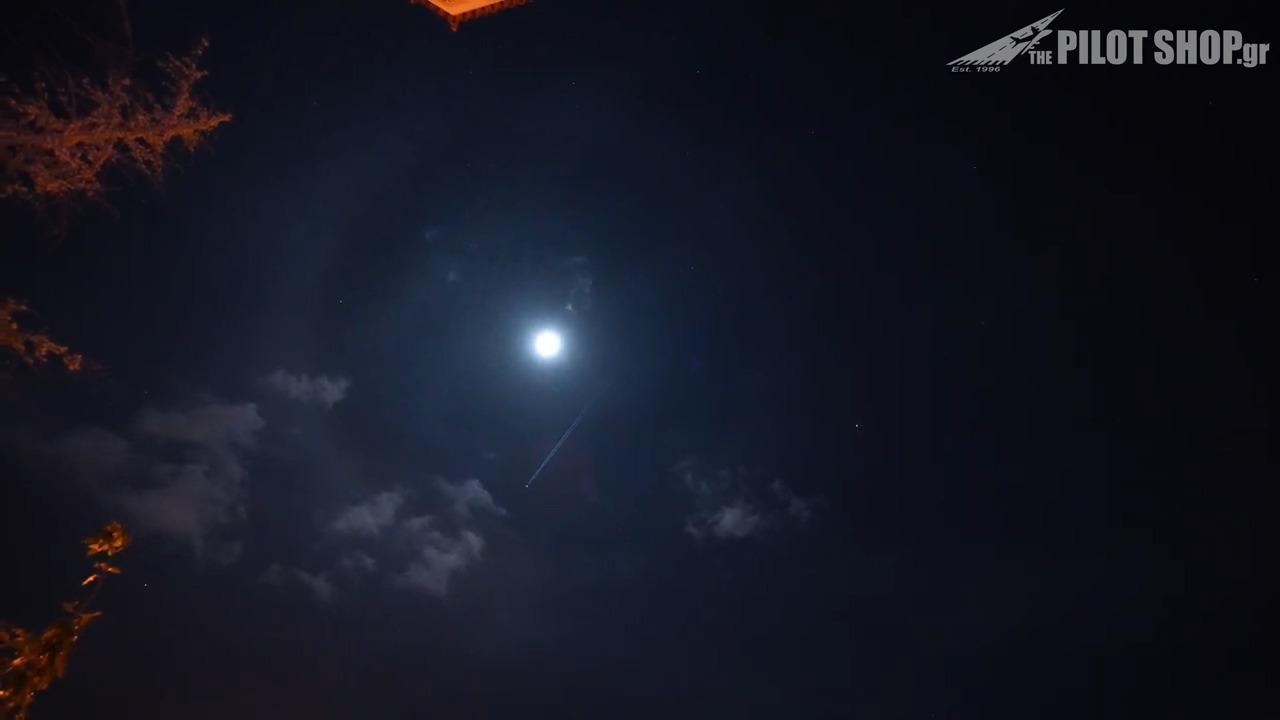Plane: (481, 385, 635, 500)
